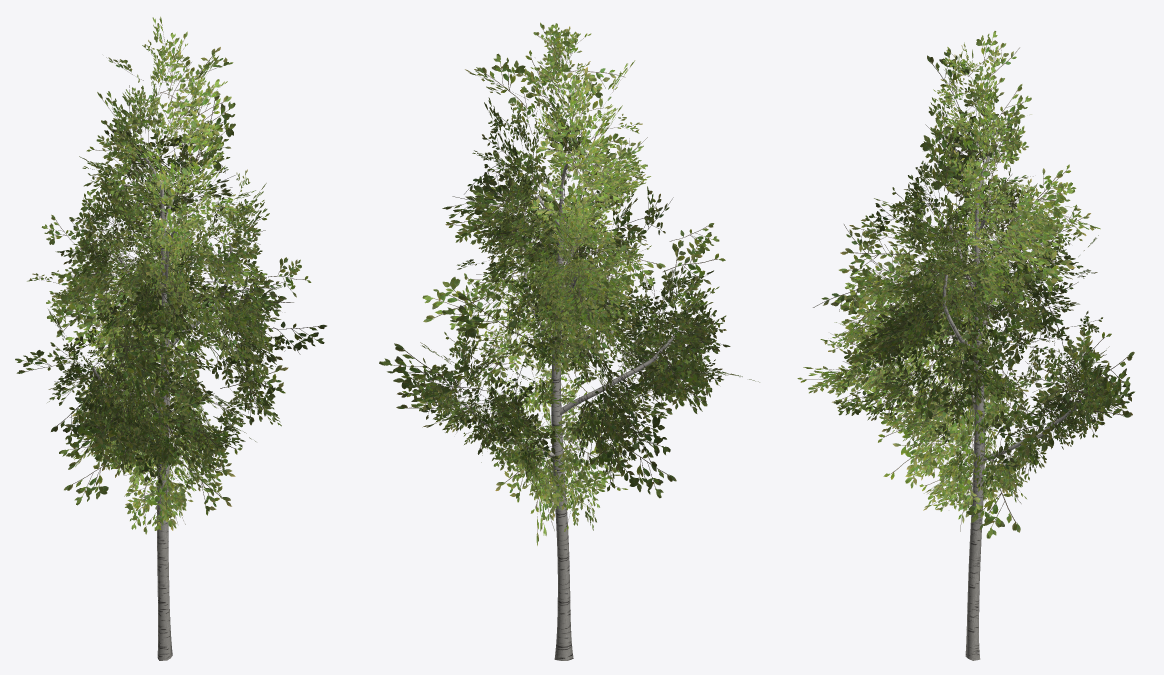
The model's file is tree_birch_v1_l0.glb.
3 renders of one model, left to right at view 1: azimuth 30°, elevation 25°; view 2: azimuth 150°, elevation 25°; view 3: azimuth 270°, elevation 25°, orthographic. The views are drawn at different scales.
Parts seen in each view (by area): view 1: tree_birch_v1_l0; view 2: tree_birch_v1_l0; view 3: tree_birch_v1_l0.
Boxes of the visible parts, x1,y1,x2,y2 form: tree_birch_v1_l0: [15, 16, 326, 660]; tree_birch_v1_l0: [379, 22, 759, 660]; tree_birch_v1_l0: [797, 31, 1134, 660].
Bounding box in the file's own units: 5.87 × 11.66 × 5.92.
Materials: 2 (2 with a texture image).
